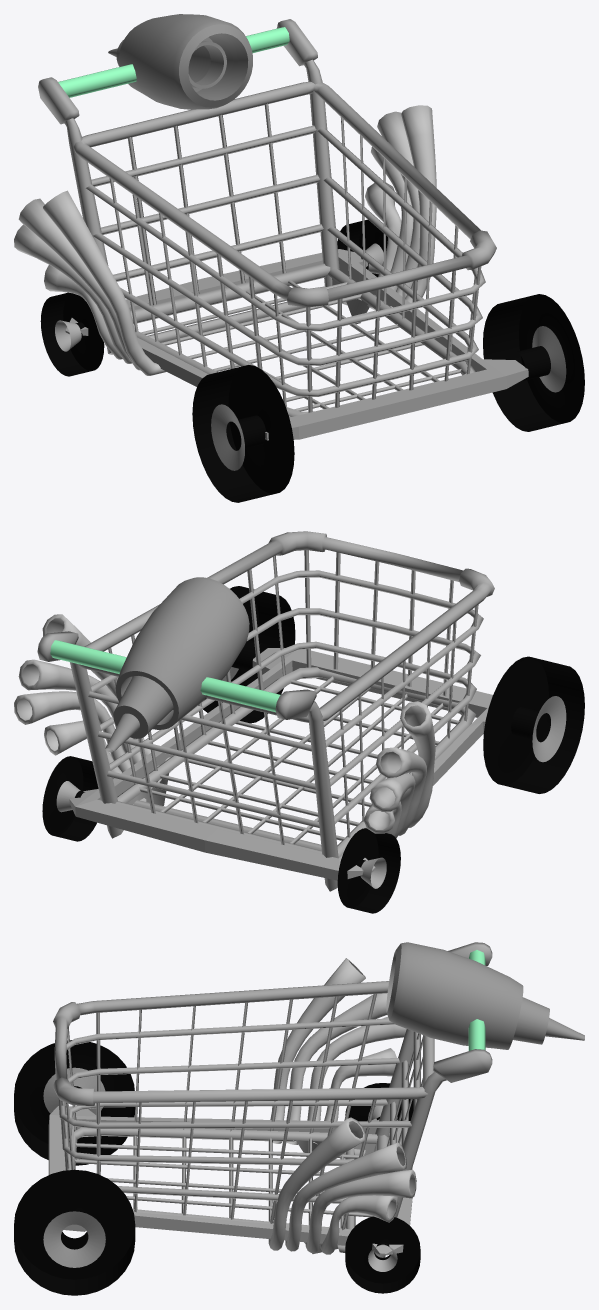
The model's file is alsverisepetimodif.fbx.
The picture shows the model from 3 angles, top to bottom: view 1: azimuth 30°, elevation 25°; view 2: azimuth 150°, elevation 25°; view 3: azimuth 270°, elevation 25°; orthographic projection. The views are drawn at different scales.
Visible parts, largest first — view 1: alısverısspeetı.001, Circle.008, NurbsPath, Plane, Circle.007; view 2: alısverısspeetı.001, Circle.008, Circle.007, Plane, NurbsPath; view 3: alısverısspeetı.001, Circle.008, NurbsPath, Circle.007, Plane.
Boxes of the visible parts, x1=… form: alısverısspeetı.001: x1=38, y1=19, x2=496, y2=416; Circle.008: x1=40, y1=219, x2=584, y2=502; NurbsPath: x1=14, y1=105, x2=436, y2=375; Plane: x1=65, y1=249, x2=528, y2=440; Circle.007: x1=108, y1=14, x2=252, y2=109; alısverısspeetı.001: x1=37, y1=531, x2=494, y2=891; Circle.008: x1=42, y1=586, x2=584, y2=913; Circle.007: x1=105, y1=577, x2=249, y2=752; Plane: x1=69, y1=648, x2=492, y2=880; NurbsPath: x1=14, y1=614, x2=435, y2=838; alısverısspeetı.001: x1=53, y1=942, x2=492, y2=1257; Circle.008: x1=14, y1=1040, x2=420, y2=1295; NurbsPath: x1=268, y1=958, x2=416, y2=1254; Circle.007: x1=386, y1=942, x2=584, y2=1049; Plane: x1=48, y1=1106, x2=412, y2=1255.
Size of the model in its own units: 1731 by 1294 by 2410.
